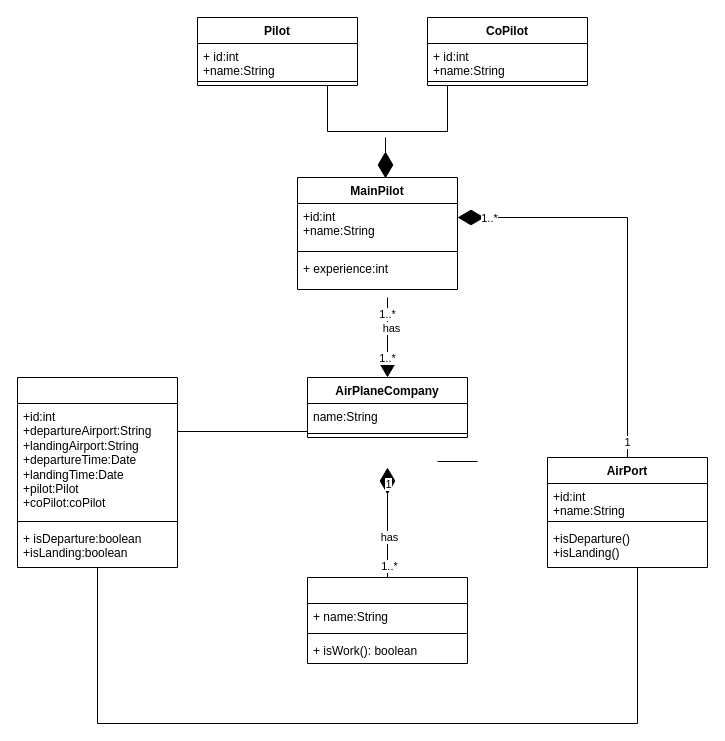
This 725x741 diagram has some shape labels left out. The box of each missing label's shape, as (x1, y1, x2, y2) in pixels:
Flight: (16, 376, 178, 568)
Plane: (306, 576, 468, 664)
